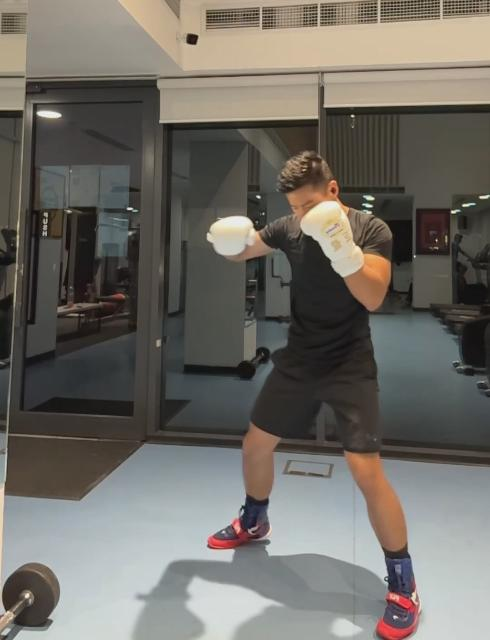punch: (205, 146, 423, 640)
